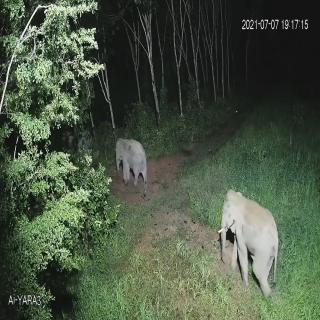Elephant: (218, 179, 282, 298), (110, 128, 153, 197)
